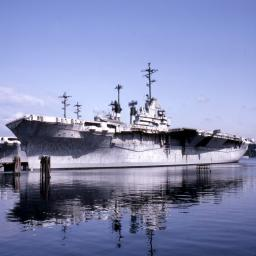Portanaves: (6, 60, 254, 173)
